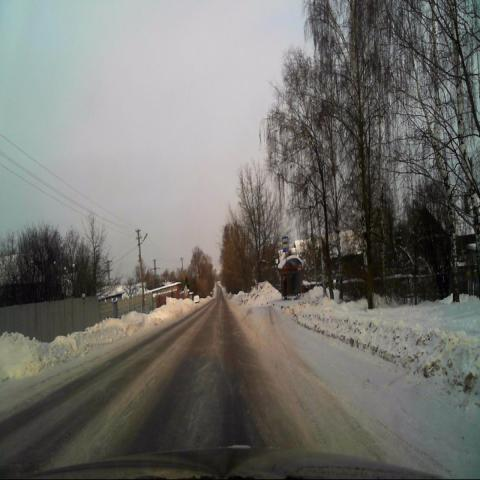5_16: (282, 236, 288, 252)
